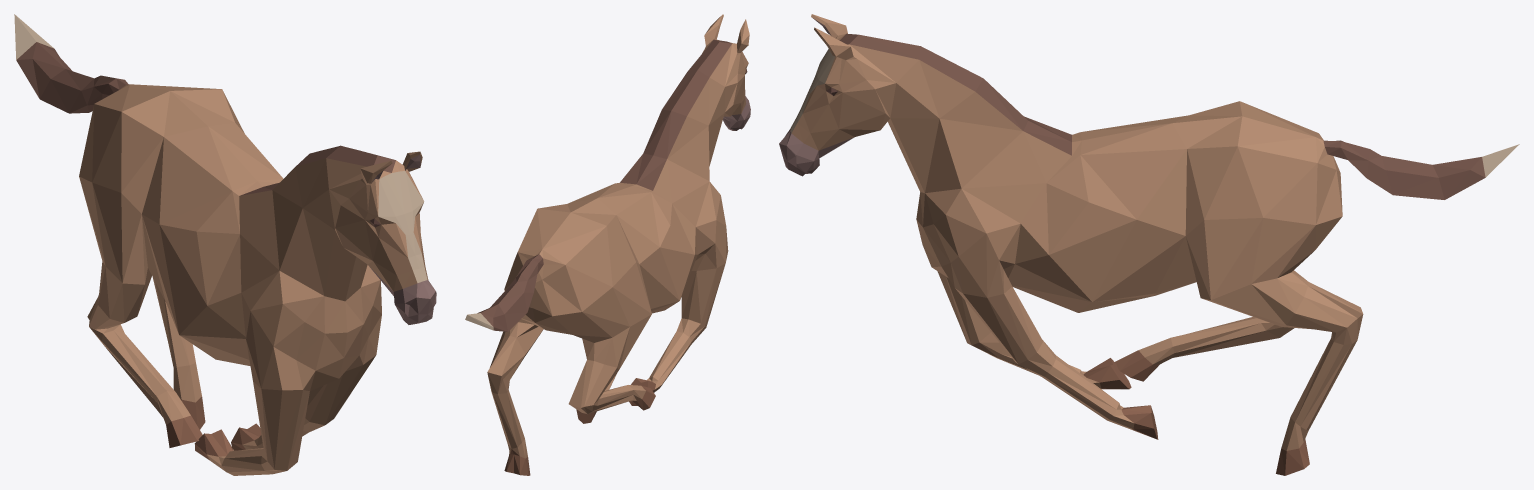
File: Horse.glb
3 views of the same model, side by side, from view 1: azimuth 30°, elevation 25°; view 2: azimuth 150°, elevation 25°; view 3: azimuth 270°, elevation 25° (orthographic). The views are drawn at different scales.
Parts seen in each view (by area): view 1: mesh_0; view 2: mesh_0; view 3: mesh_0.
Boxes of the visible parts, bbox=[...] form: mesh_0: bbox=[14, 14, 436, 475]; mesh_0: bbox=[465, 14, 750, 475]; mesh_0: bbox=[779, 14, 1519, 475].
Size of the model in its own units: 65.96 by 180 by 279.
